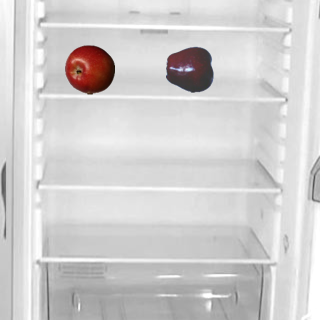Apple Braeburn: (64, 44, 114, 94)
Apple Red Delicious: (165, 44, 215, 94)
